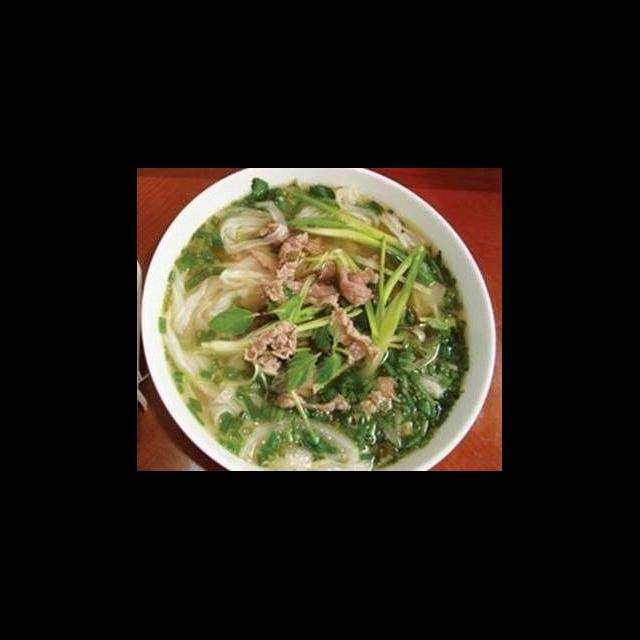banh hoi: (163, 329, 260, 442)
banh pho: (156, 256, 272, 344), (230, 412, 374, 472), (222, 200, 286, 254)
pho bo: (138, 184, 502, 471)
thit bo: (260, 228, 346, 314), (288, 247, 382, 310), (320, 304, 386, 368), (240, 321, 304, 378), (268, 378, 354, 420), (352, 370, 406, 424)
